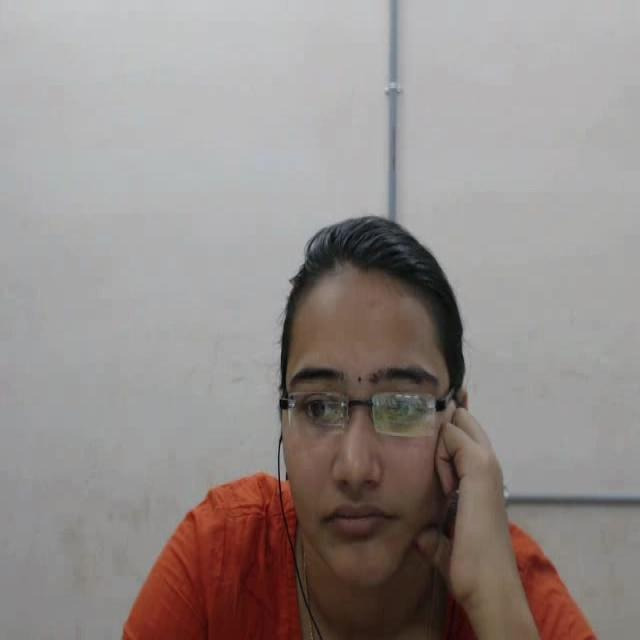Bored: (212, 202, 525, 637)
